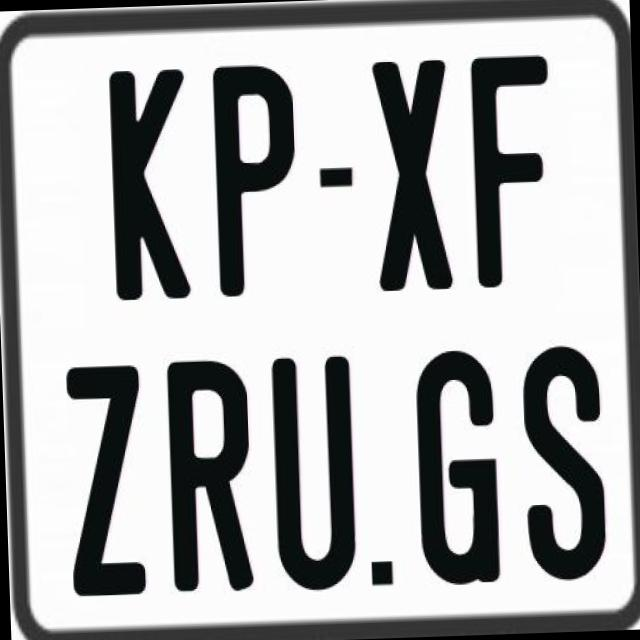F: (467, 49, 555, 287)
G: (412, 348, 506, 592)
K: (108, 64, 190, 295)
P: (208, 60, 300, 301)
R: (164, 356, 254, 590)
S: (520, 341, 608, 578)
U: (269, 352, 363, 595)
X: (372, 55, 458, 288)
Z: (65, 362, 151, 602)
